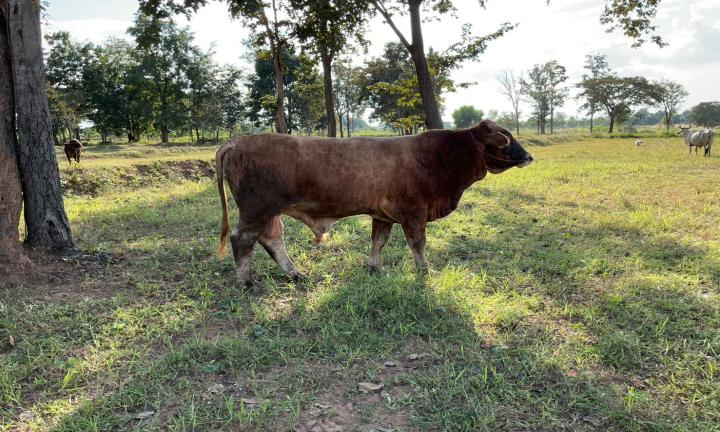Charolais: (216, 120, 533, 283)
